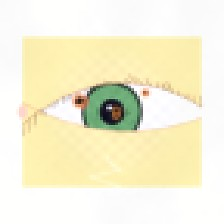foreign_body_visible: (57, 83, 102, 119)
